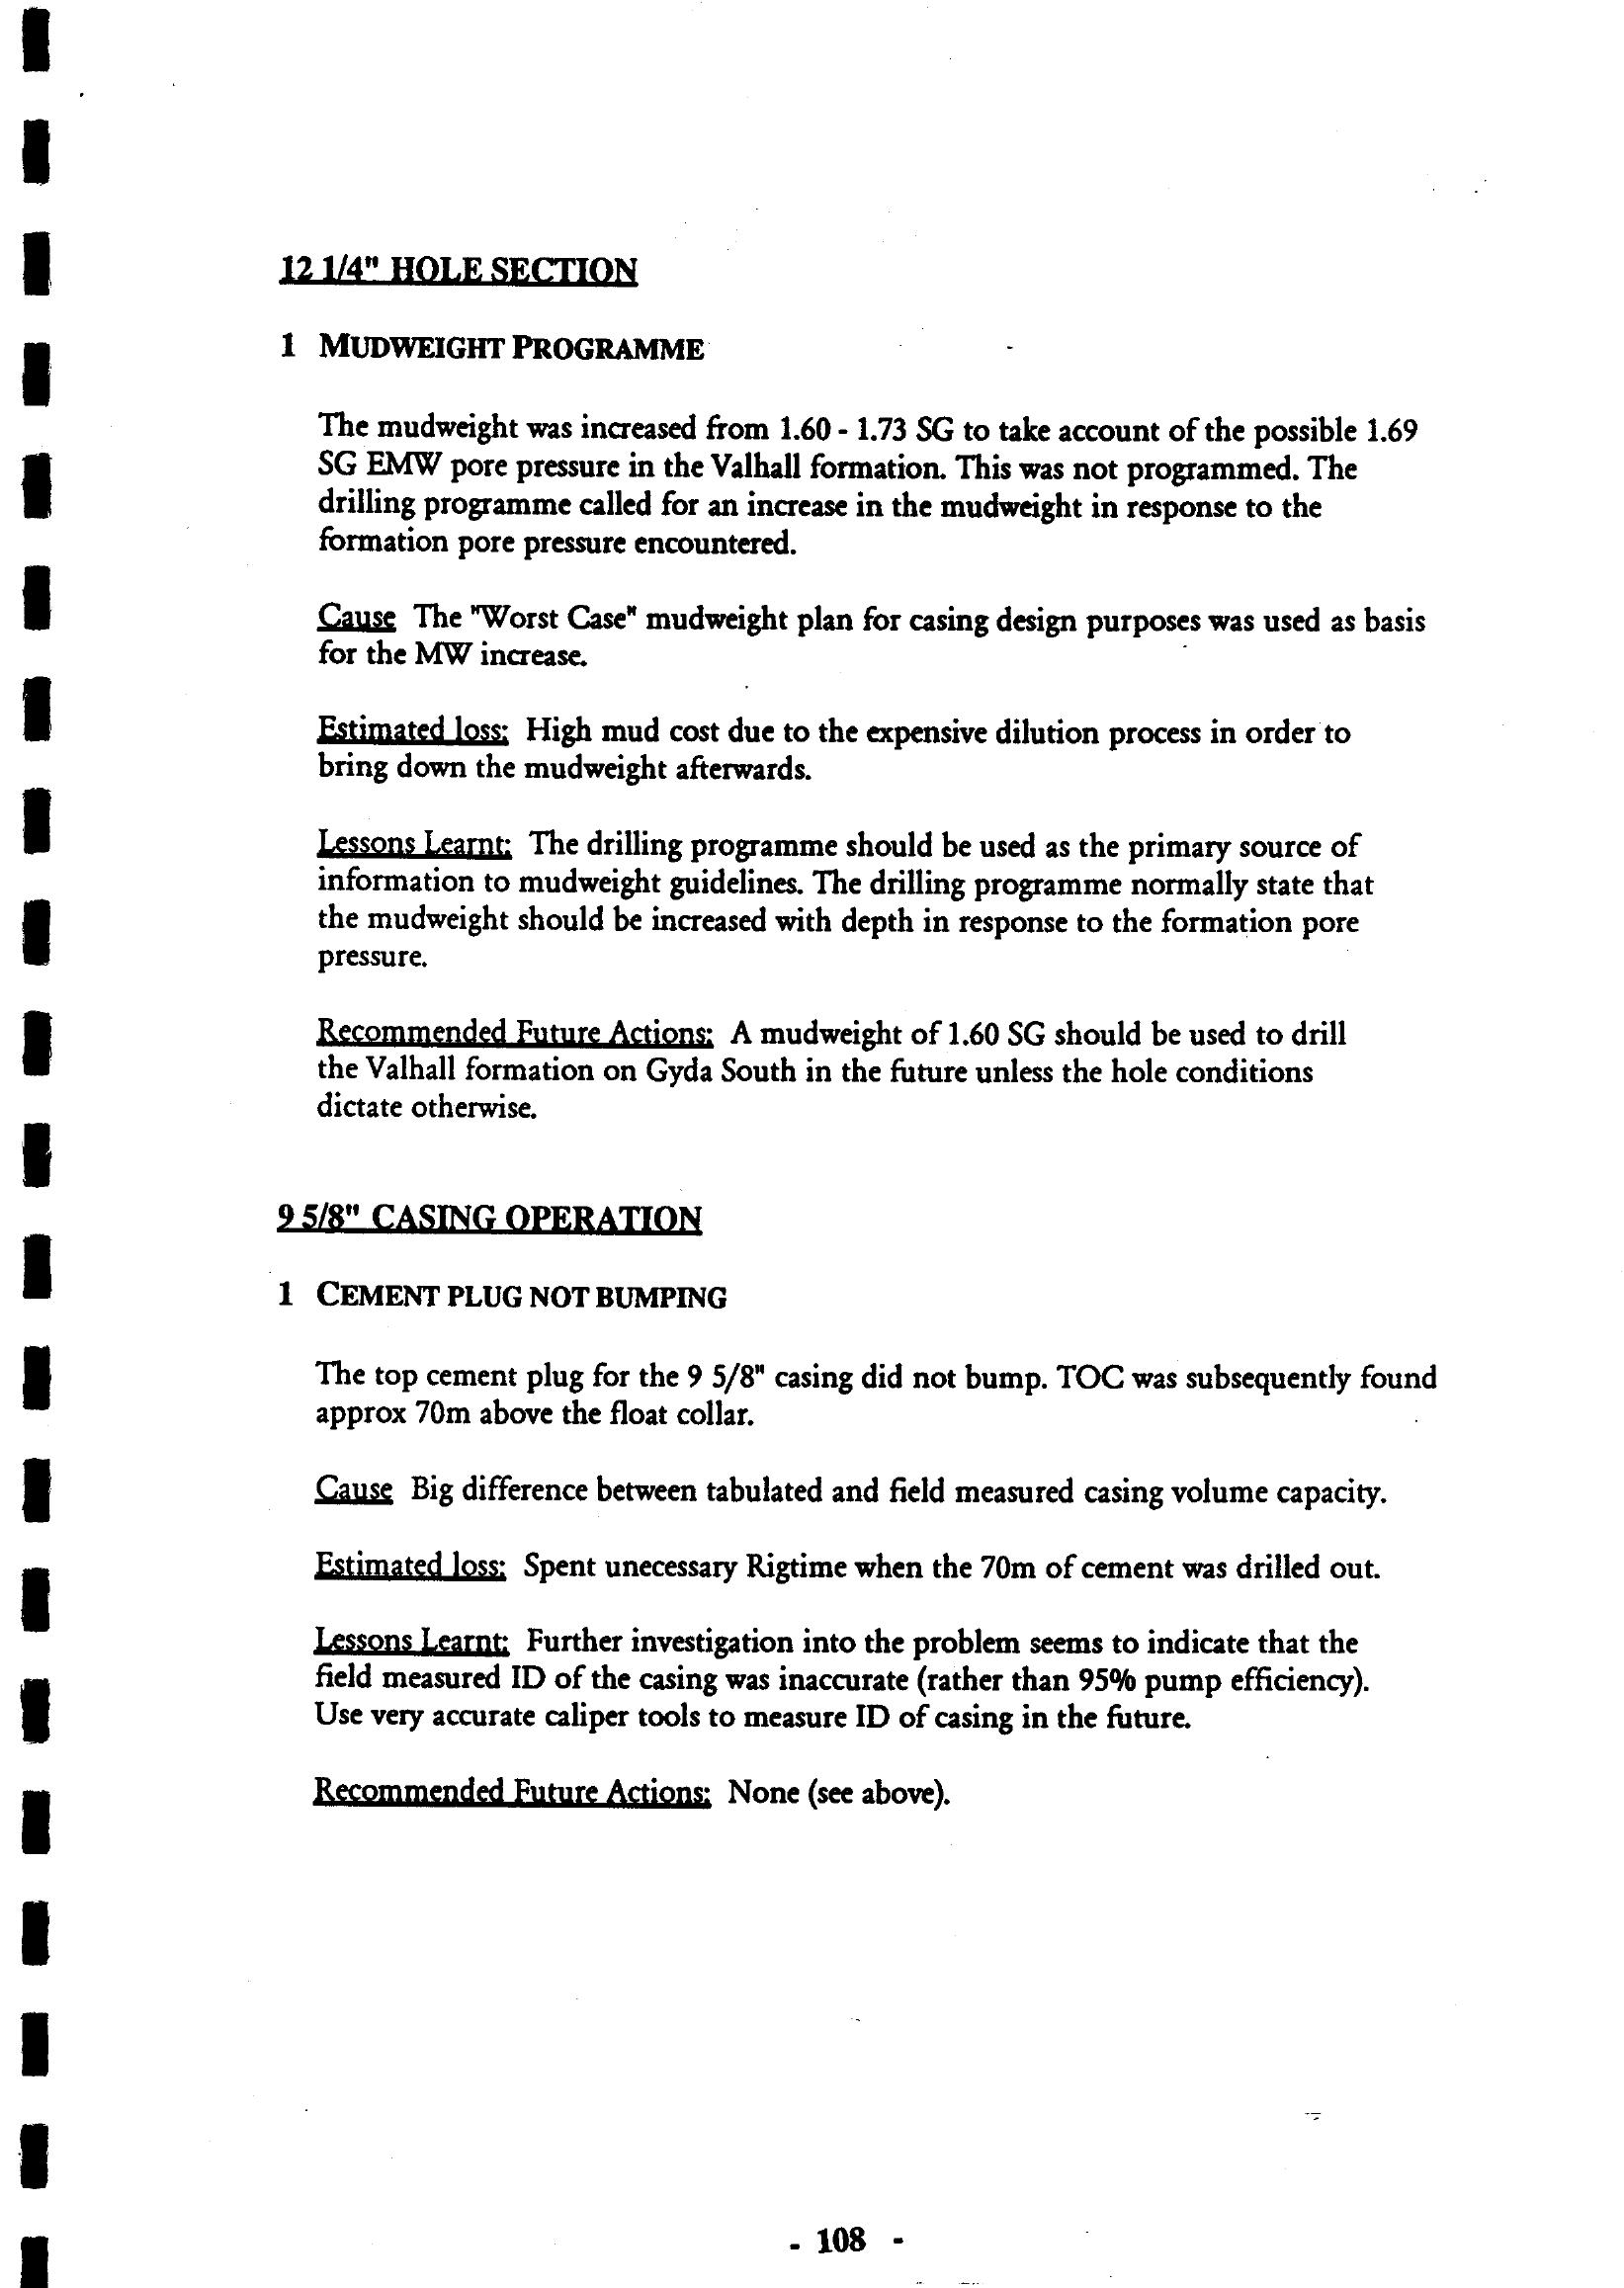text: (204, 213, 1487, 1887)
